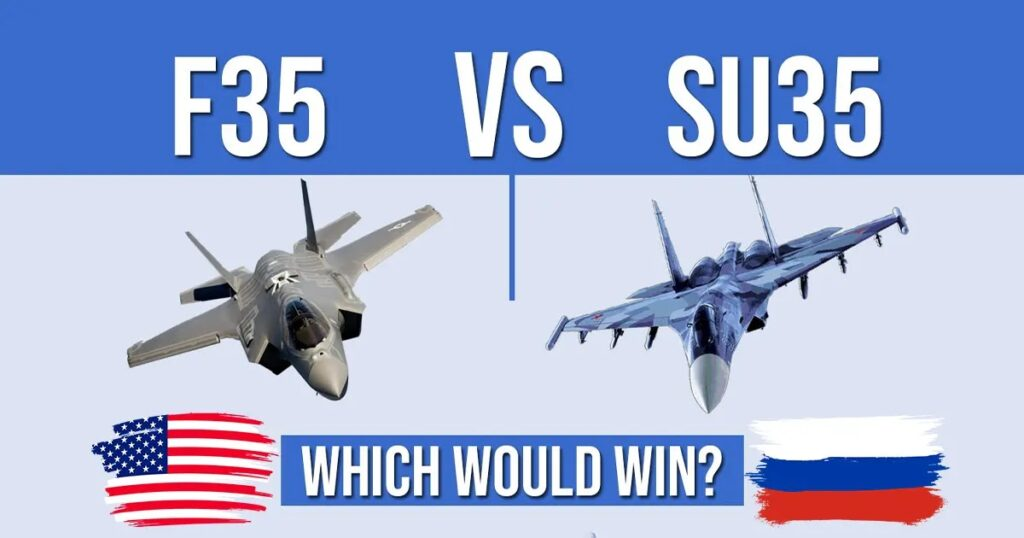F35: (120, 178, 451, 408)
Su35: (541, 175, 916, 419)
